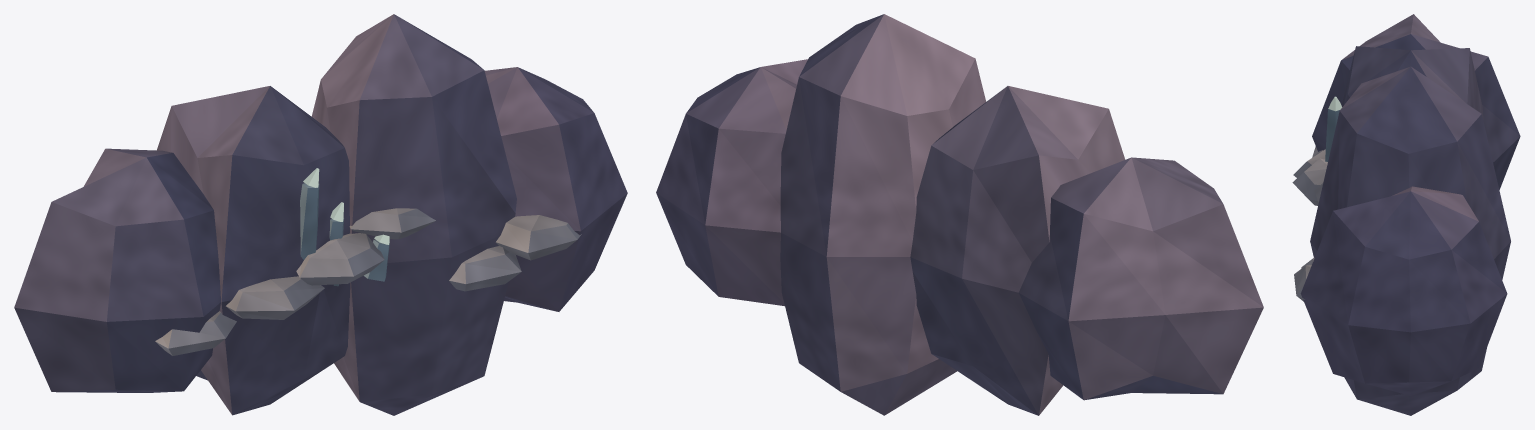
The model's file is mine_deep_wall.glb.
The picture shows the model from 3 angles, left to right: view 1: azimuth 30°, elevation 25°; view 2: azimuth 150°, elevation 25°; view 3: azimuth 270°, elevation 25°; orthographic projection. The views are drawn at different scales.
Parts seen in each view (by area): view 1: Tiefe Mine · Minensohle · Felsrand und Stützbalken; view 2: Tiefe Mine · Minensohle · Felsrand und Stützbalken; view 3: Tiefe Mine · Minensohle · Felsrand und Stützbalken.
Boxes of the visible parts, x1,y1,x2,y2 form: Tiefe Mine · Minensohle · Felsrand und Stützbalken: (14, 14, 627, 415); Tiefe Mine · Minensohle · Felsrand und Stützbalken: (656, 14, 1263, 415); Tiefe Mine · Minensohle · Felsrand und Stützbalken: (1292, 14, 1520, 415).
Bounding box in the file's own units: 2.69 × 1.74 × 1.03.
2 materials, 1 textured.
